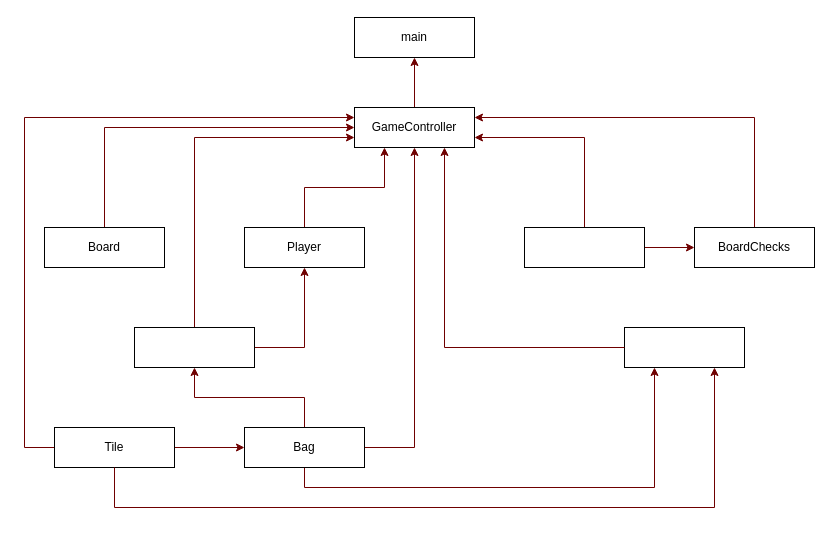
Some shapes in this 832 by 533 pixel diagram are drawn without their labels. Here are the shapes that lost their labels. From the top down, the centre of each, then its label:
At point 584,247: "WordChecks".
At point 194,347: "Rack".
At point 684,347: "EndTurn".
